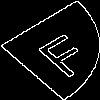F: (25, 25, 99, 80)
